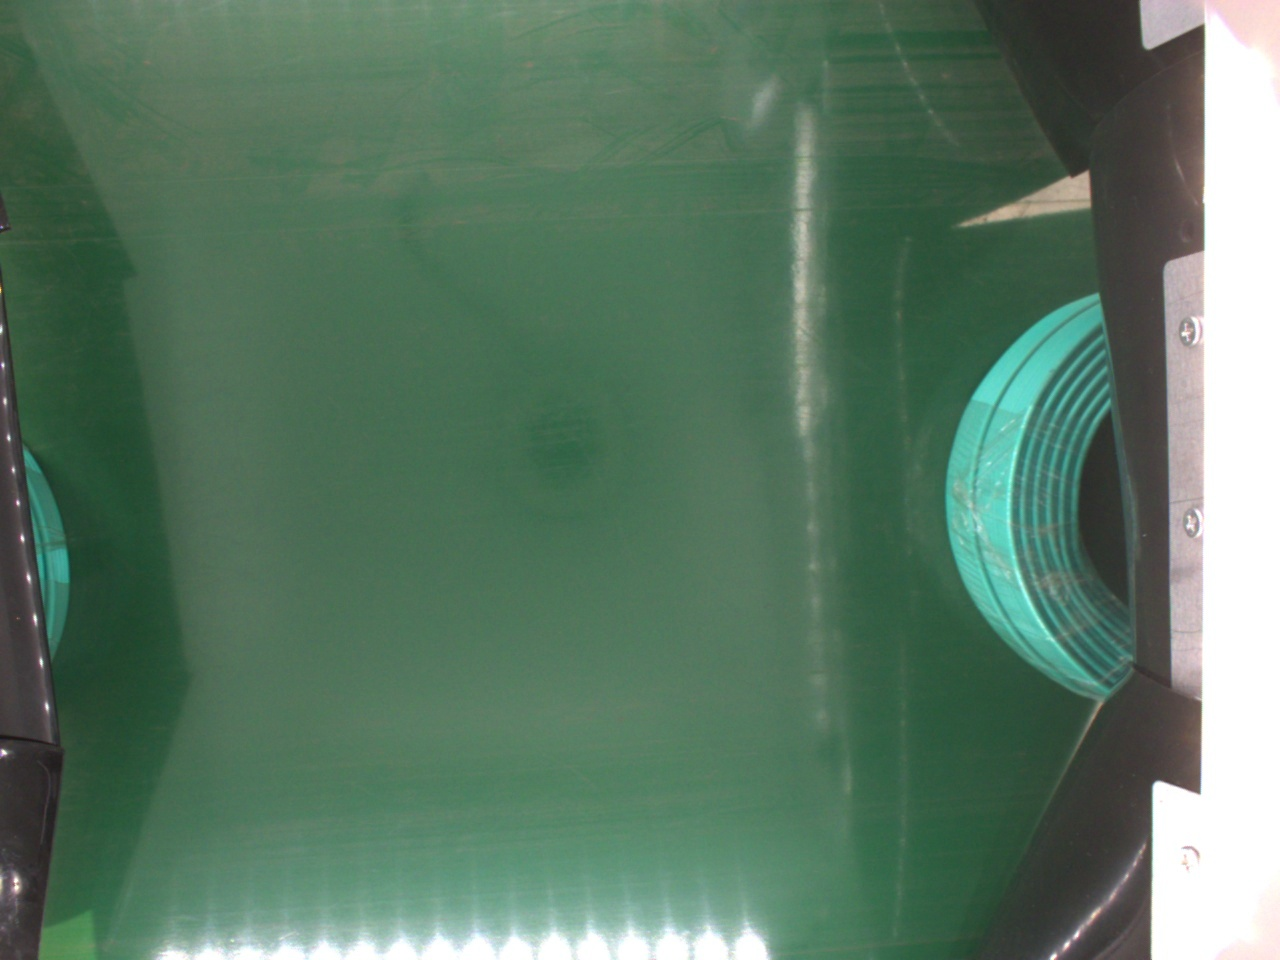green: (943, 294, 1136, 698)
